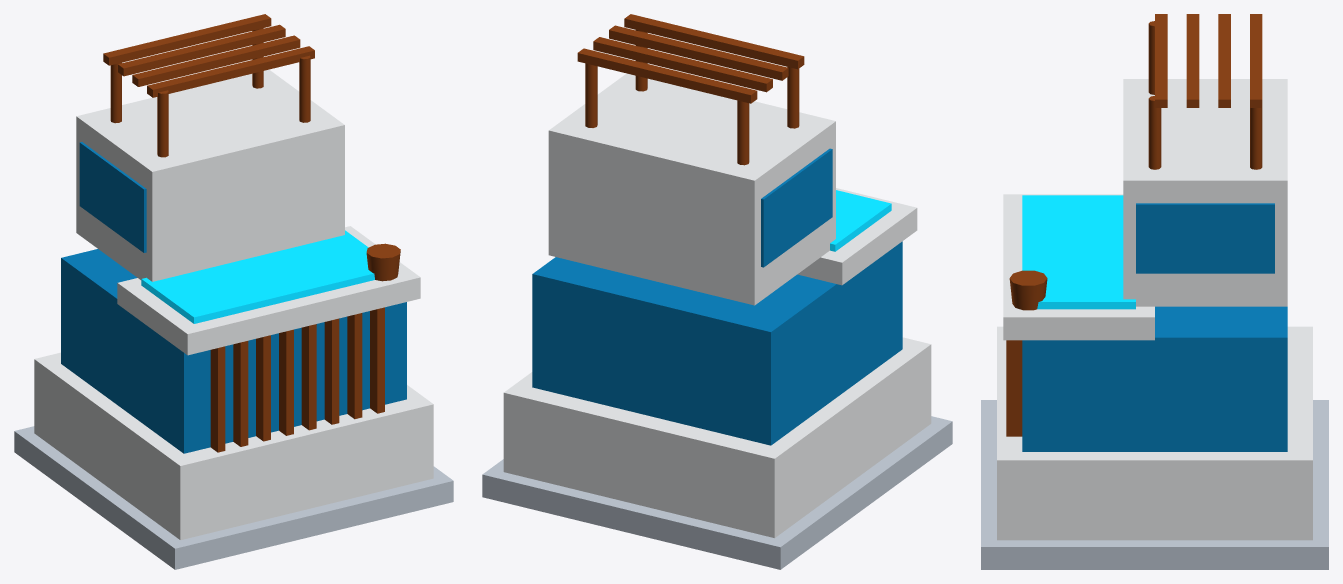
Rendered from bld_resort_c2.glb.
The picture shows the model from 3 angles, left to right: view 1: azimuth 30°, elevation 25°; view 2: azimuth 150°, elevation 25°; view 3: azimuth 270°, elevation 25°; orthographic projection. The views are drawn at different scales.
Parts seen in each view (by area): view 1: Bld_Resort_C2_CoastalResort; view 2: Bld_Resort_C2_CoastalResort; view 3: Bld_Resort_C2_CoastalResort.
Part boxes in pixels (box(x1,y1,x2,y2)): Bld_Resort_C2_CoastalResort: box(14, 14, 453, 569); Bld_Resort_C2_CoastalResort: box(482, 14, 952, 569); Bld_Resort_C2_CoastalResort: box(981, 14, 1328, 569).
Size of the model in its own units: 0.55 by 0.7675 by 0.55.
